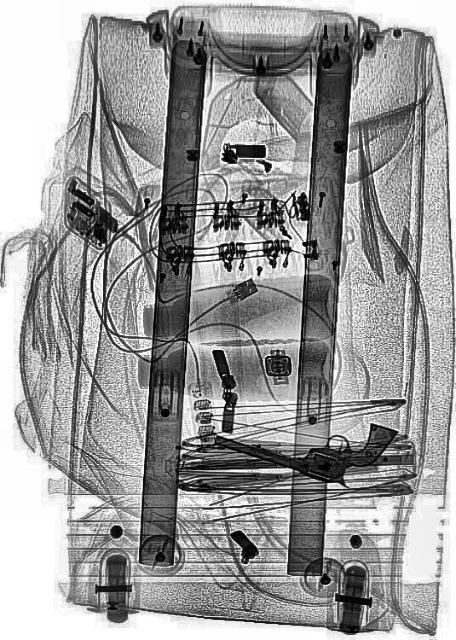Gun: (212, 376, 398, 498)
